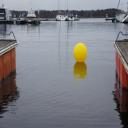yellow: (74, 43, 87, 62)
